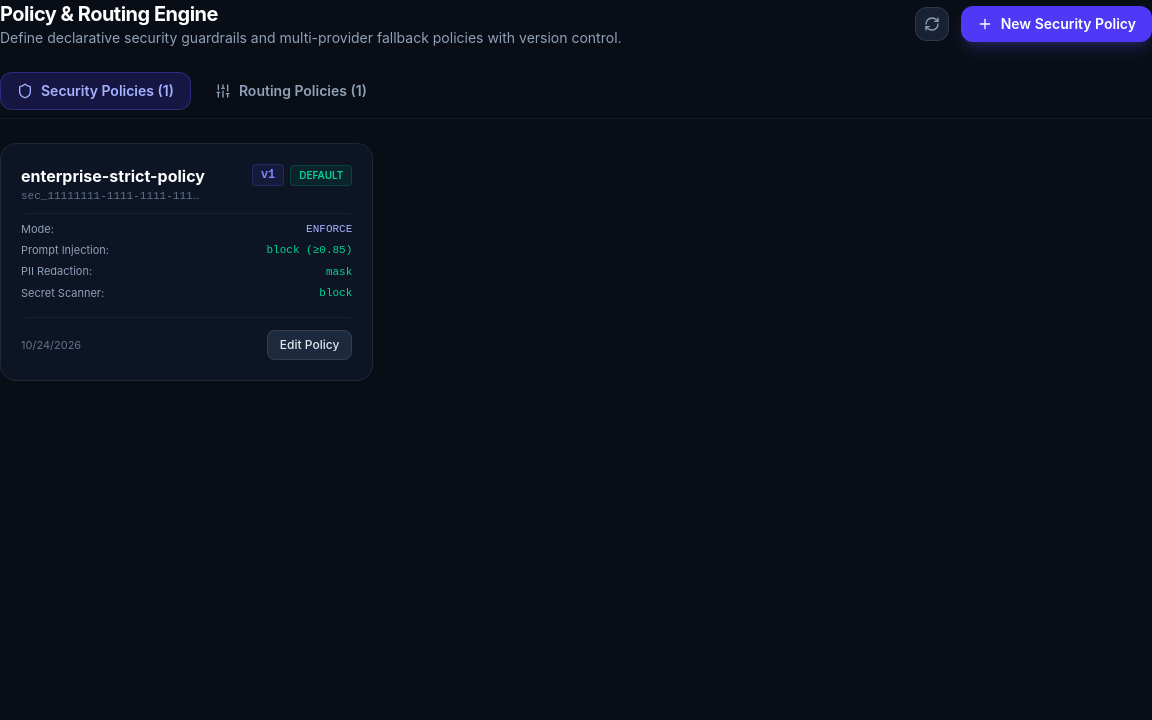
Scenario: Policy Engine & Routing Configuration (F4, UI-007, UI-009) › edits security policy and increments version upon update
This screenshot has width=1152, height=720.
Expected: the heading "enterprise-strict-policy" is shown, [21,164,205,188]
Note: Open edit modal
Click the button "Edit Policy" at (310, 345), box [267,330,352,360]
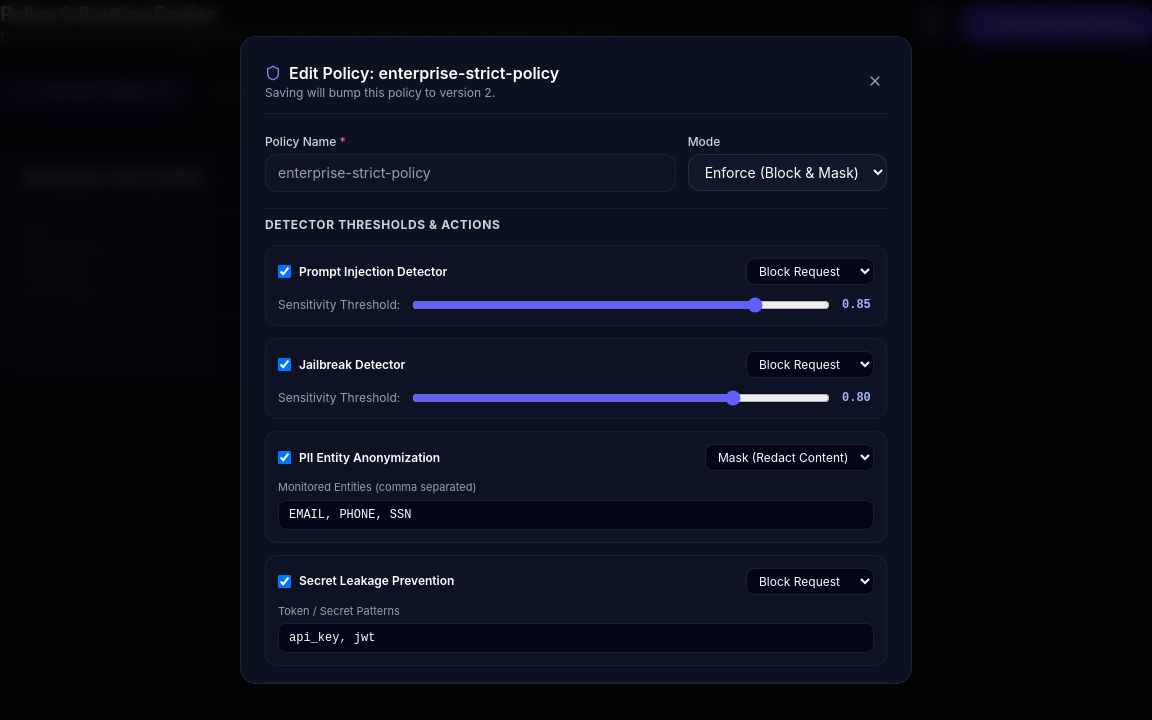
Expected: the heading "Edit Policy: enterprise-strict-policy" is shown, [265,61,559,85]
Note: Adjust threshold slider
Set the slider showing "0.85" below "Prompt Injection Detector" to "0.95" at (800, 305), box [412,297,830,313]
(page scrolled)
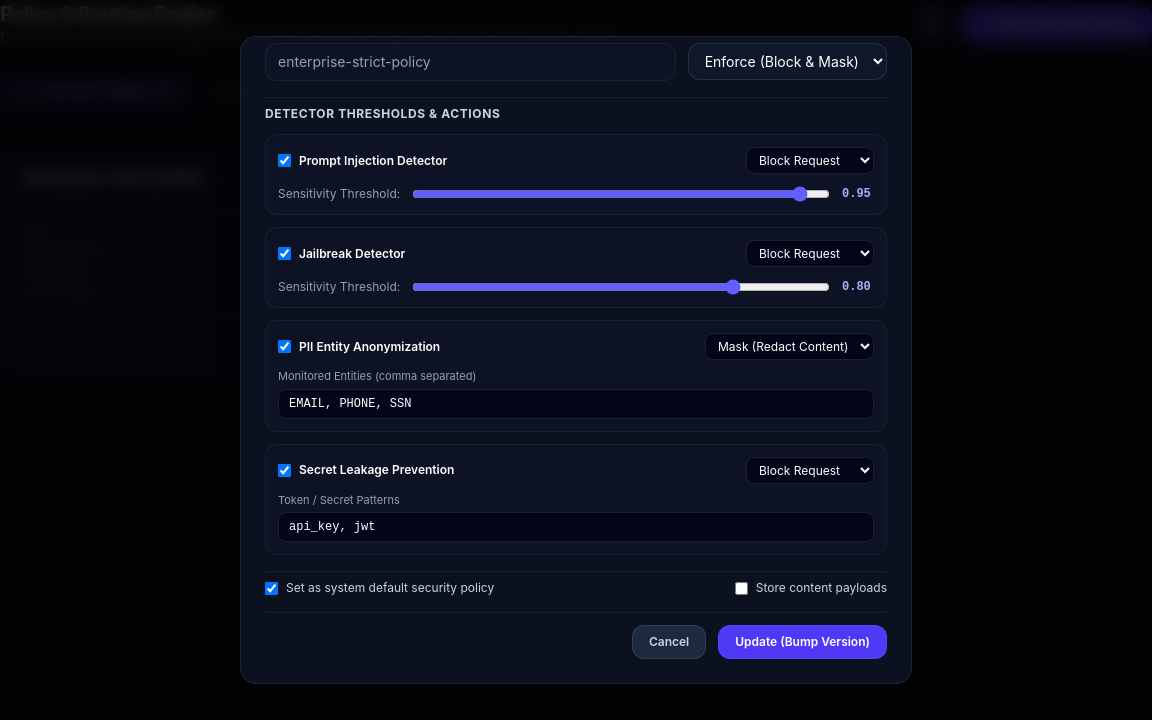
Note: Submit update
Click the button "Update (Bump Version)" at (803, 642), box [718,625,887,659]
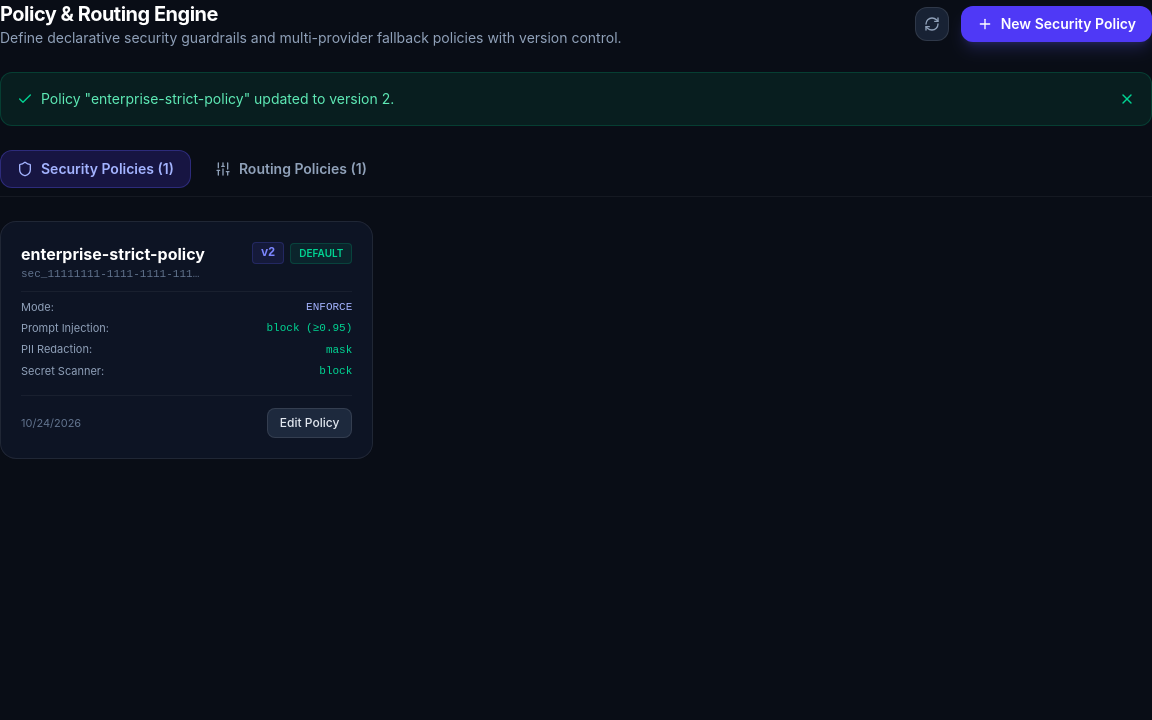
Expected: the text "v2" is shown, [252,242,284,264]
